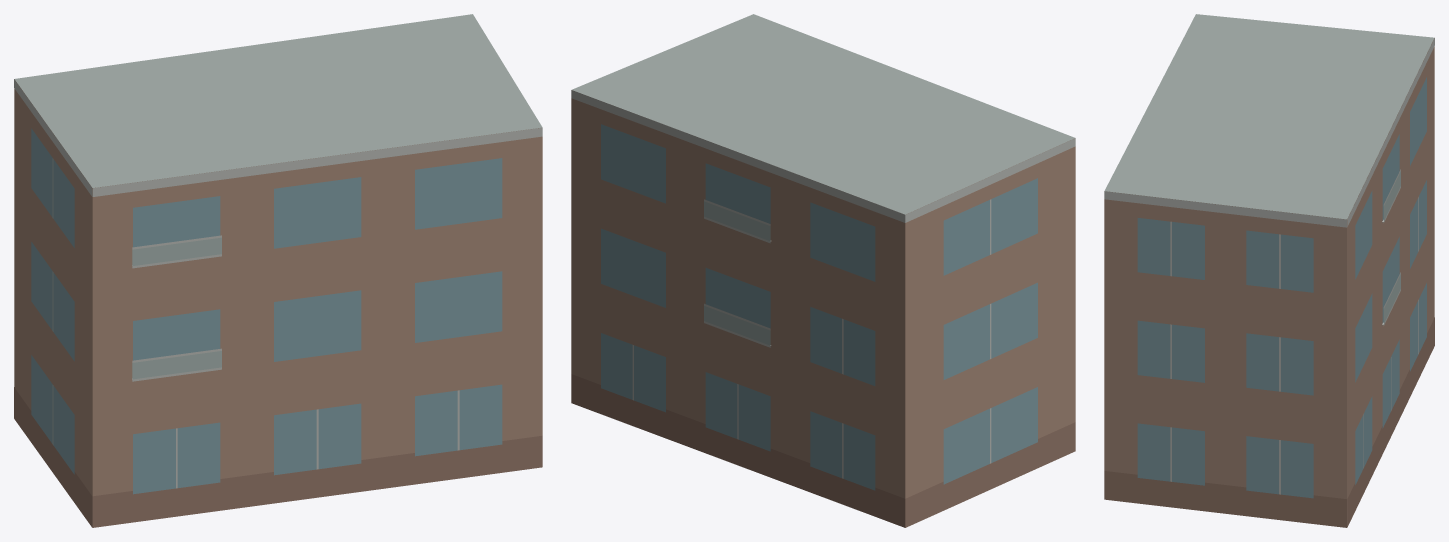
File: survey-upis-32541049.glb
3 renders of one model, left to right at view 1: azimuth 30°, elevation 25°; view 2: azimuth 150°, elevation 25°; view 3: azimuth 270°, elevation 25°, orthographic. The views are drawn at different scales.
Parts seen in each view (by area): view 1: survey-upis-32541049.tmp; view 2: survey-upis-32541049.tmp; view 3: survey-upis-32541049.tmp.
Boxes of the visible parts, bbox=[...] form: survey-upis-32541049.tmp: bbox=[14, 14, 542, 527]; survey-upis-32541049.tmp: bbox=[571, 14, 1075, 527]; survey-upis-32541049.tmp: bbox=[1104, 14, 1434, 527].
Bounding box in the file's own units: 13.08 × 9.15 × 8.89.
